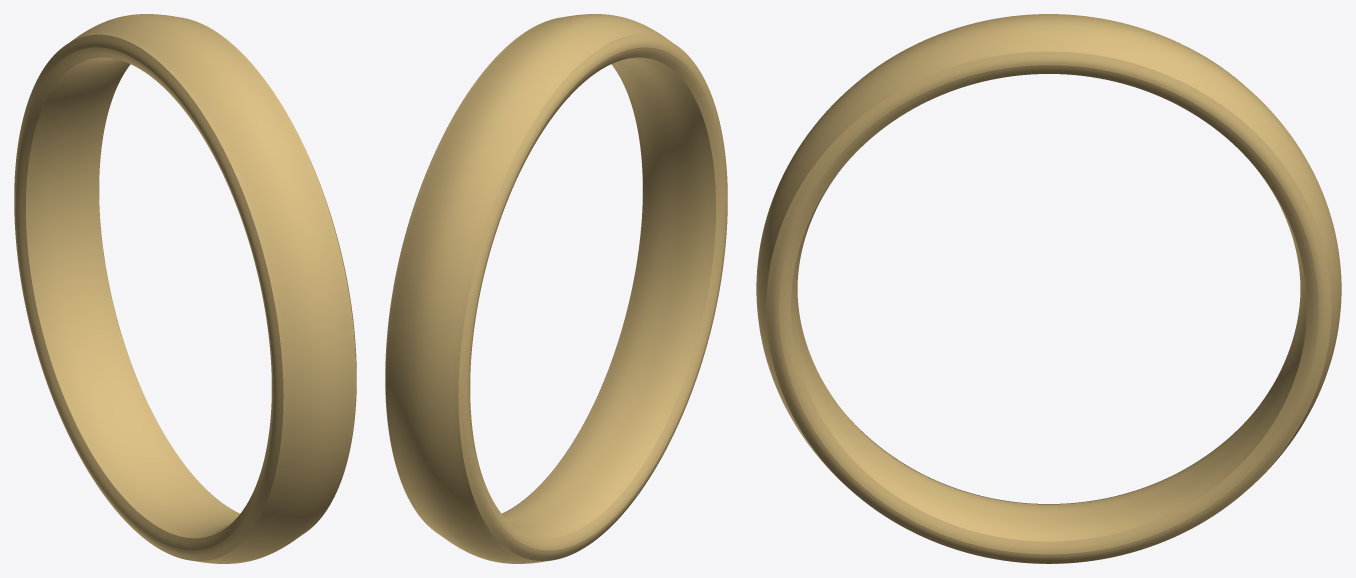
3 views of the same model, side by side, from view 1: azimuth 30°, elevation 25°; view 2: azimuth 150°, elevation 25°; view 3: azimuth 270°, elevation 25° (orthographic). The views are drawn at different scales.
Visible parts, largest first — view 1: P3-Outer, P3-Inner, P3-Sides; view 2: P3-Outer, P3-Inner, P3-Sides; view 3: P3-Sides, P3-Outer, P3-Inner.
Boxes of the visible parts, x1,y1,x2,y2 form: P3-Outer: [71, 14, 356, 563]; P3-Inner: [26, 55, 239, 538]; P3-Sides: [14, 34, 356, 561]; P3-Outer: [385, 14, 670, 563]; P3-Inner: [502, 55, 715, 538]; P3-Sides: [385, 34, 727, 561]; P3-Sides: [766, 38, 1331, 563]; P3-Outer: [756, 14, 1341, 563]; P3-Inner: [791, 51, 1306, 541].
Size of the model in its own units: 0.3993 by 2.38 by 2.37.
